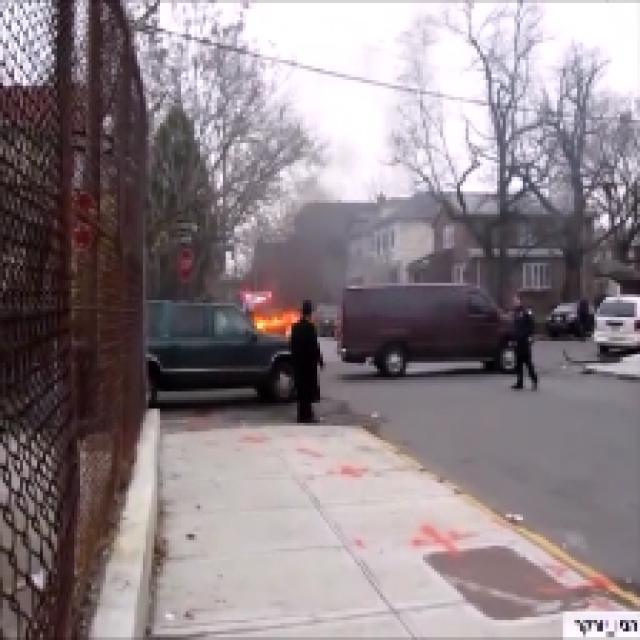Fire: (260, 302, 300, 330)
